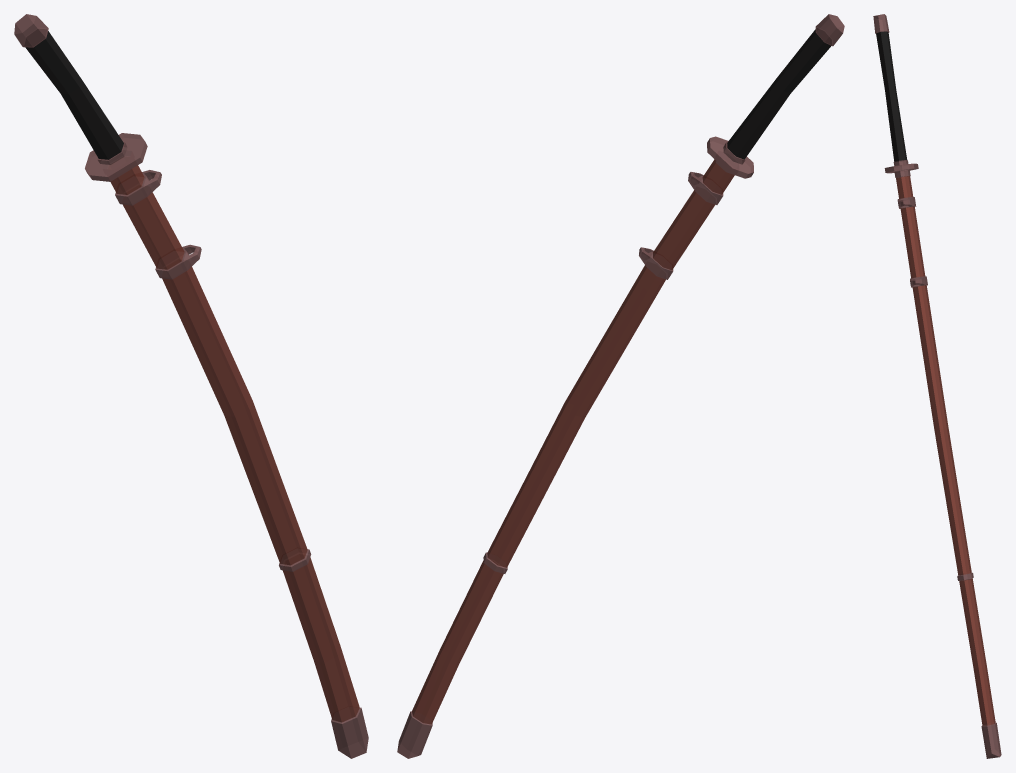
Rendered from Sword2.fbx.
3 renders of one model, left to right at view 1: azimuth 30°, elevation 25°; view 2: azimuth 150°, elevation 25°; view 3: azimuth 270°, elevation 25°, orthographic. The views are drawn at different scales.
Parts seen in each view (by area): view 1: Sword.002; view 2: Sword.002; view 3: Sword.002.
Part boxes in pixels (box(x1,y1,x2,y2)): Sword.002: box(14, 14, 368, 758); Sword.002: box(397, 14, 844, 758); Sword.002: box(873, 14, 1001, 758).
Bounding box in the file's own units: 65.81 × 130 × 24.74.
